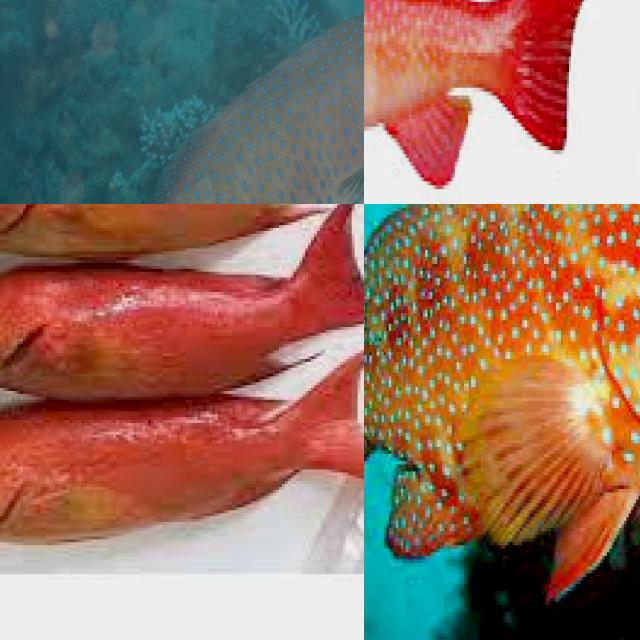Plectropomus-leopardus: (364, 204, 640, 606), (0, 0, 364, 204), (364, 0, 610, 196), (0, 263, 364, 381), (0, 418, 364, 530), (0, 204, 364, 292)
